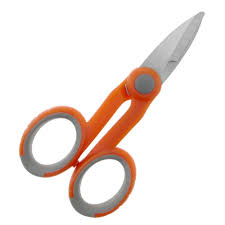tihiras: (8, 5, 215, 221)
